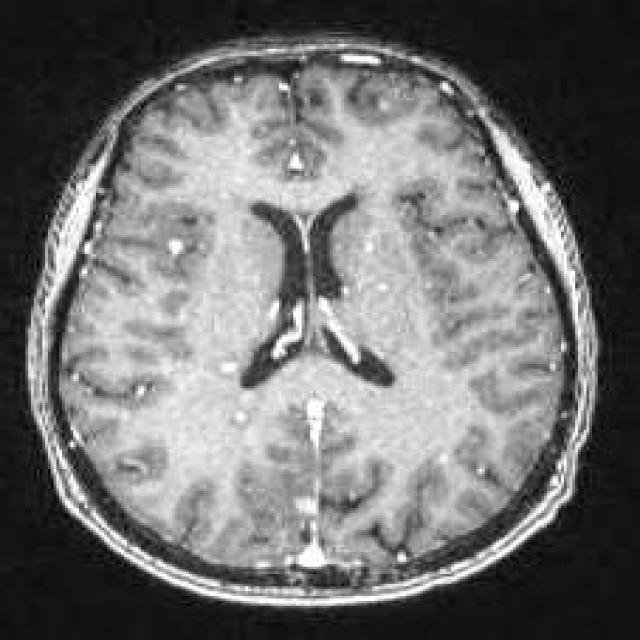notumor: (28, 34, 595, 606)
